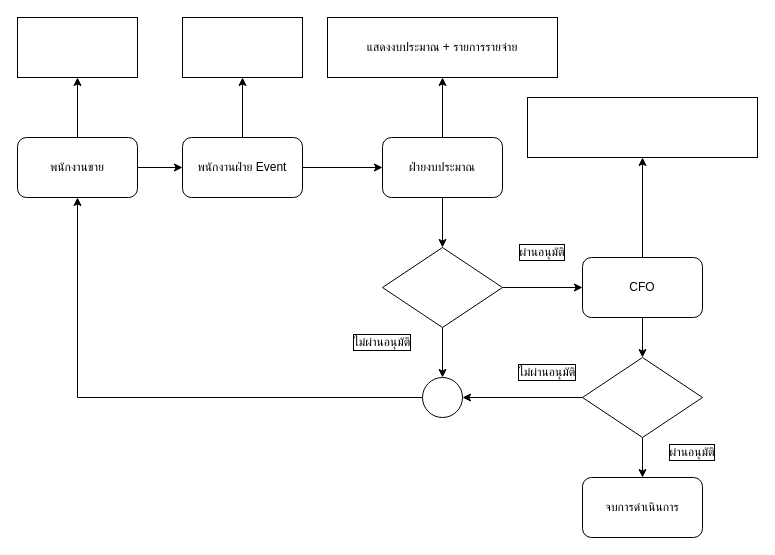
Some shapes in this 775 by 555 pixel diagram are drawn without their labels. The centre of each missing label's shape, as x and y in pixels:
"เพิ่มงบประมาณ" goes at pixel 77 47.
"เพิ่มรายการรายจ่าย" goes at pixel 242 47.
"แสดงงบประมาณ + รายการรายจ่าย + gp" goes at pixel 642 127.
